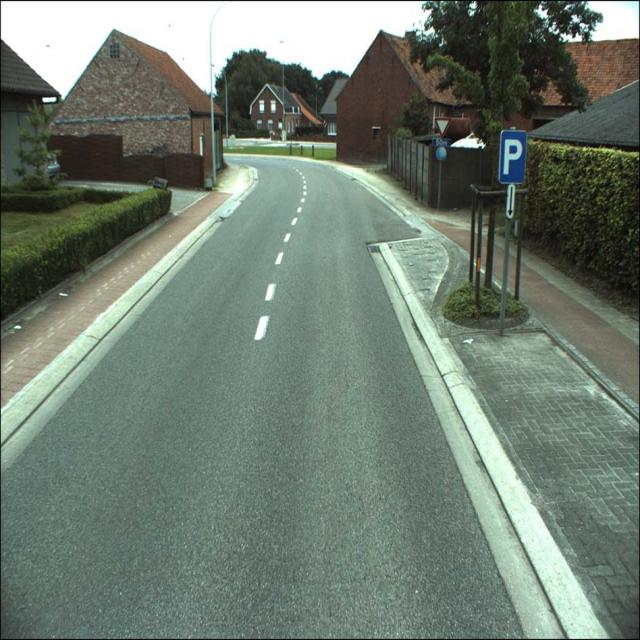park: (500, 130, 527, 185)
